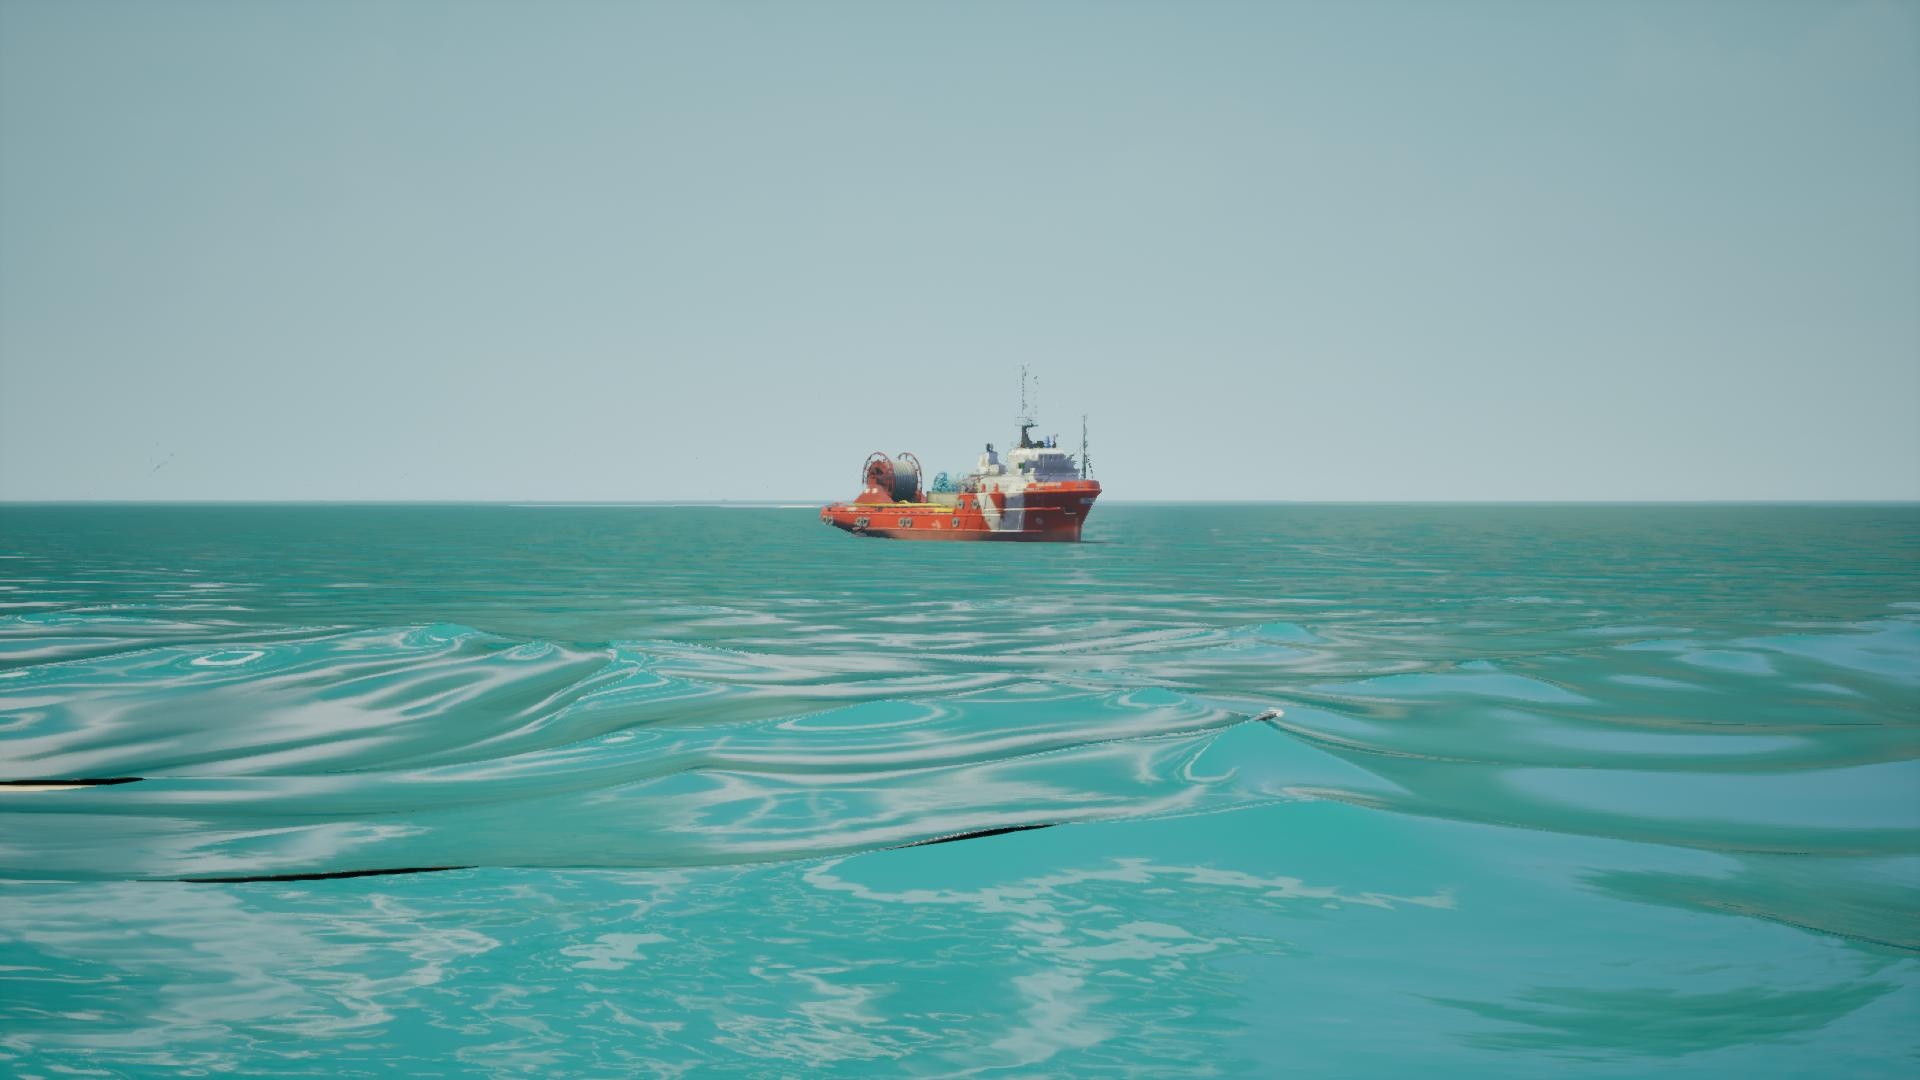Tug Boat: (828, 364, 1102, 545)
